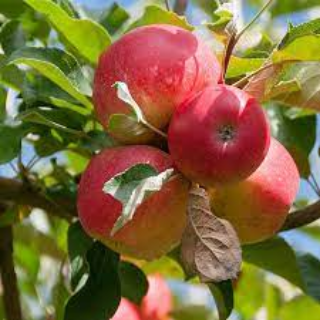tao: (167, 82, 273, 189)
